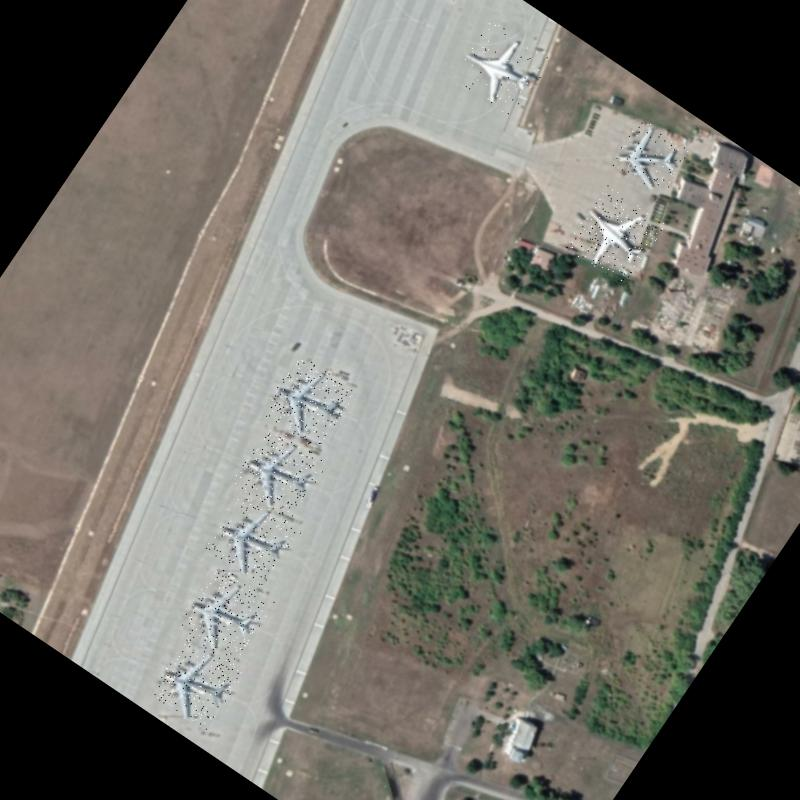A17: (230, 424, 328, 522), (178, 564, 276, 662), (149, 633, 246, 732), (260, 354, 357, 451), (204, 492, 301, 589), (610, 116, 693, 198)
A6: (564, 184, 666, 288), (450, 18, 552, 120)
